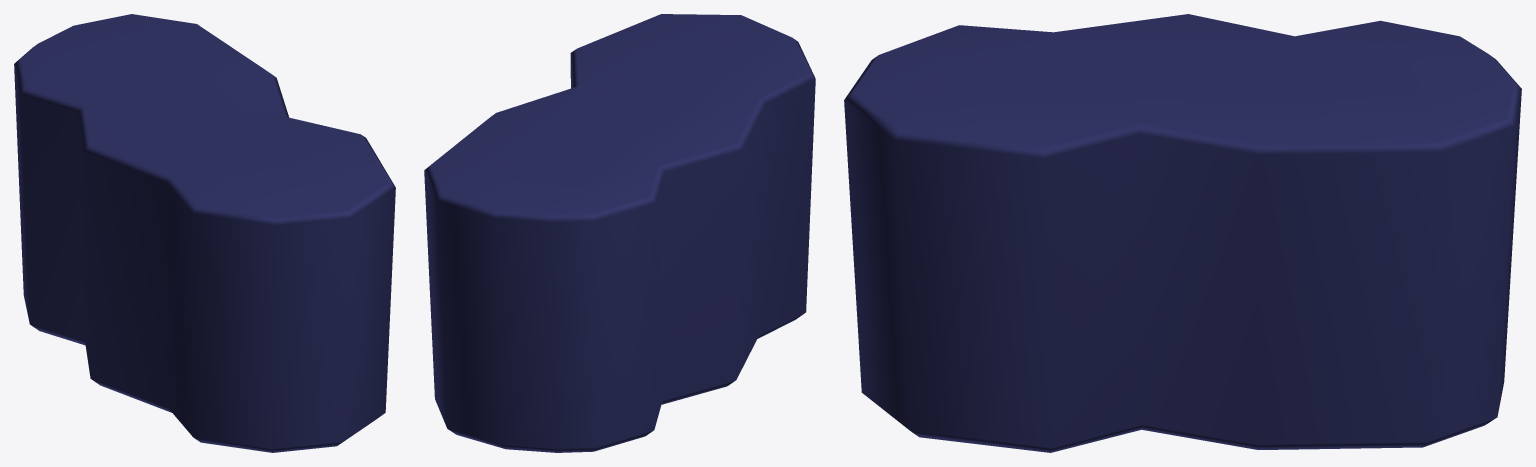
Rendered from platform3.fbx.
3 views of the same model, side by side, from view 1: azimuth 30°, elevation 25°; view 2: azimuth 150°, elevation 25°; view 3: azimuth 270°, elevation 25° (orthographic). The views are drawn at different scales.
Parts seen in each view (by area): view 1: platform3; view 2: platform3; view 3: platform3.
Boxes of the visible parts, x1=… form: platform3: x1=14, y1=14, x2=395, y2=452; platform3: x1=424, y1=14, x2=815, y2=452; platform3: x1=844, y1=14, x2=1521, y2=452.
Size of the model in its own units: 386 by 397 by 783.
